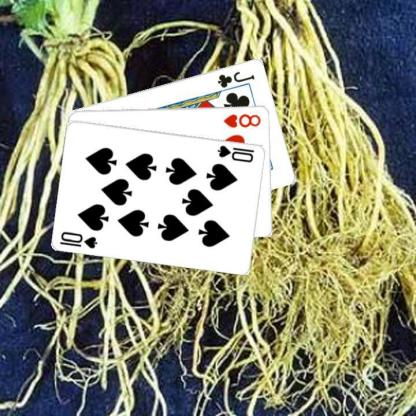10S: (215, 142, 256, 164), (58, 228, 99, 249)
8H: (221, 110, 262, 129)
JC: (215, 68, 256, 89)
